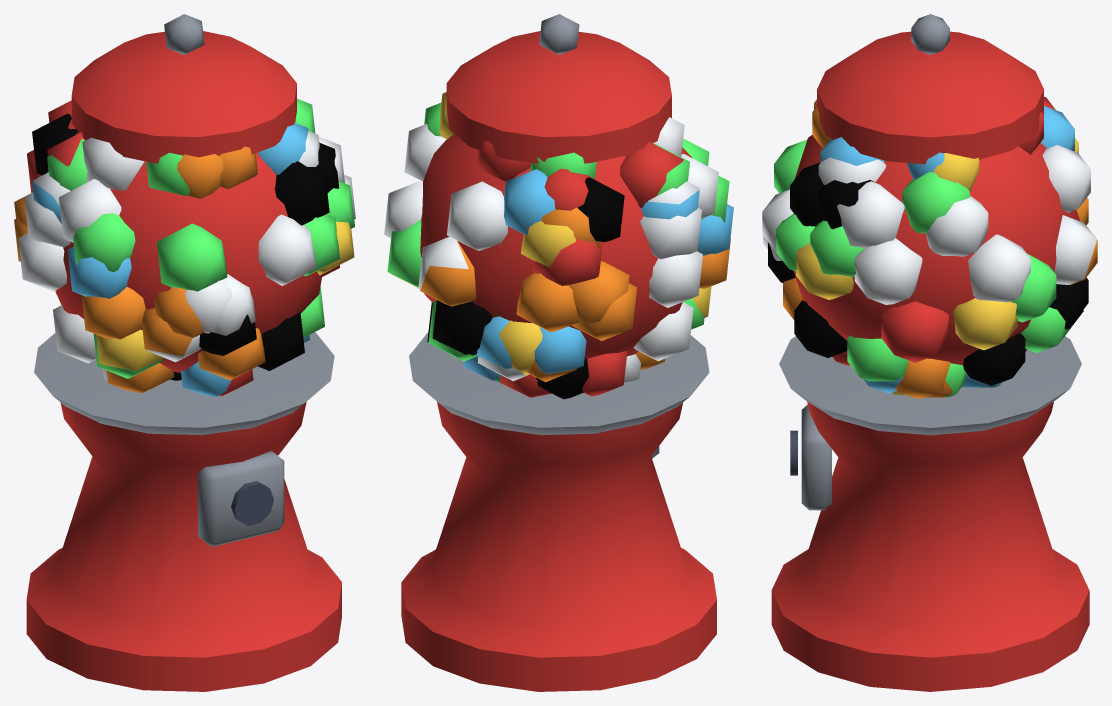
The model's file is GumballMachine.fbx.
The picture shows the model from 3 angles, left to right: view 1: azimuth 30°, elevation 25°; view 2: azimuth 150°, elevation 25°; view 3: azimuth 270°, elevation 25°; orthographic projection.
Visible parts, largest first — view 1: GumballMachine; view 2: GumballMachine; view 3: GumballMachine.
Part boxes in pixels (x1,y1,x2,y2): GumballMachine: (14, 14, 355, 691); GumballMachine: (384, 14, 733, 691); GumballMachine: (762, 14, 1097, 691).
Size of the model in its own units: 0.9034 by 1.78 by 0.8849.
Materials: 2 (2 with a texture image).
